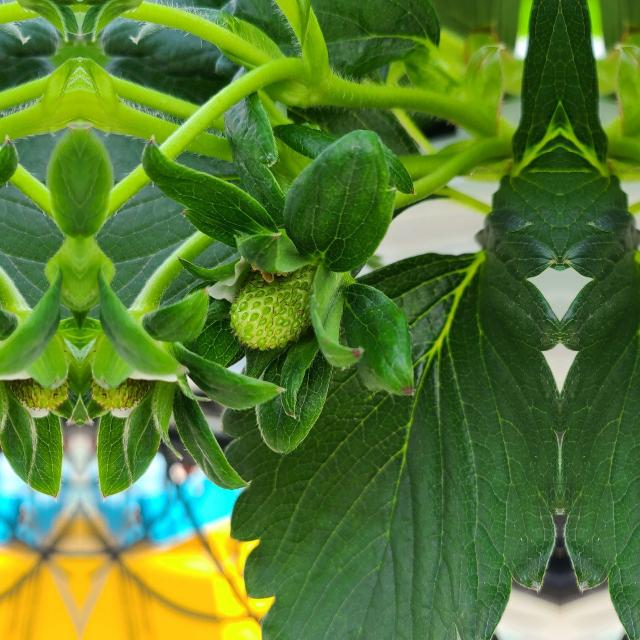Health_25: (230, 264, 318, 350)
